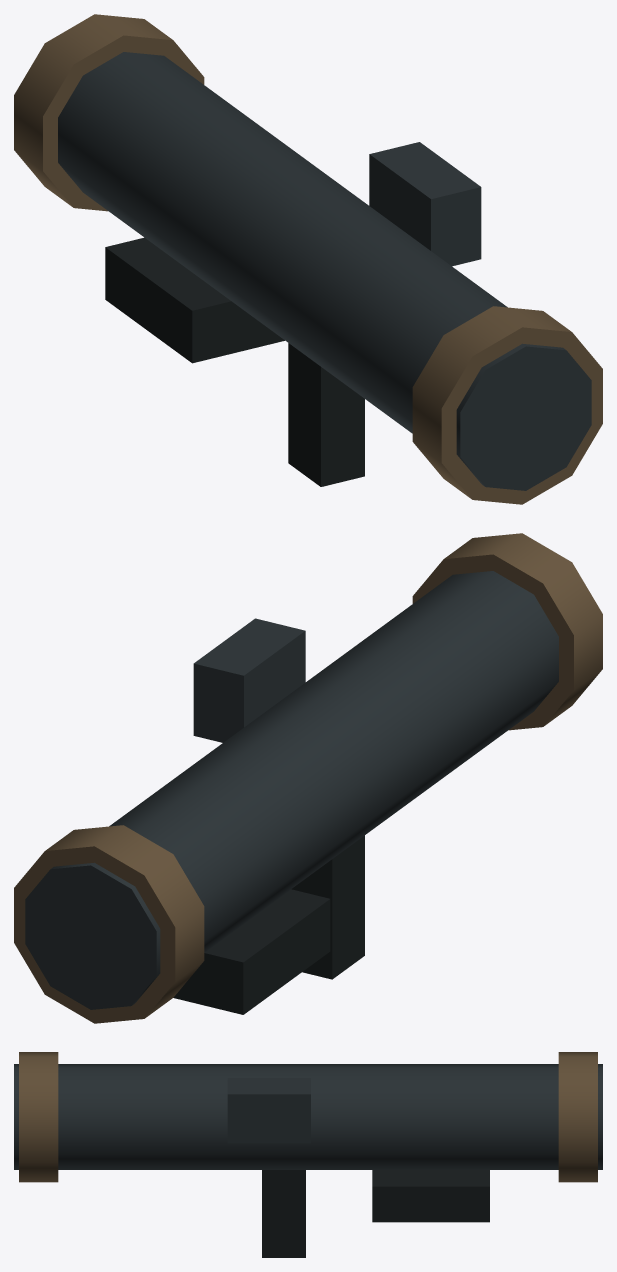
3 views of the same model, one above another, from view 1: azimuth 30°, elevation 25°; view 2: azimuth 150°, elevation 25°; view 3: azimuth 270°, elevation 25° (orthographic). The views are drawn at different scales.
Parts seen in each view (by area): view 1: weapon-rocket-launcher-painted; view 2: weapon-rocket-launcher-painted; view 3: weapon-rocket-launcher-painted.
Boxes of the visible parts, <box> form: weapon-rocket-launcher-painted: <box>14,14,602,504</box>; weapon-rocket-launcher-painted: <box>14,533,602,1023</box>; weapon-rocket-launcher-painted: <box>14,1052,602,1257</box>.
Size of the model in its own units: 1.69 by 2.38 by 6.58.
